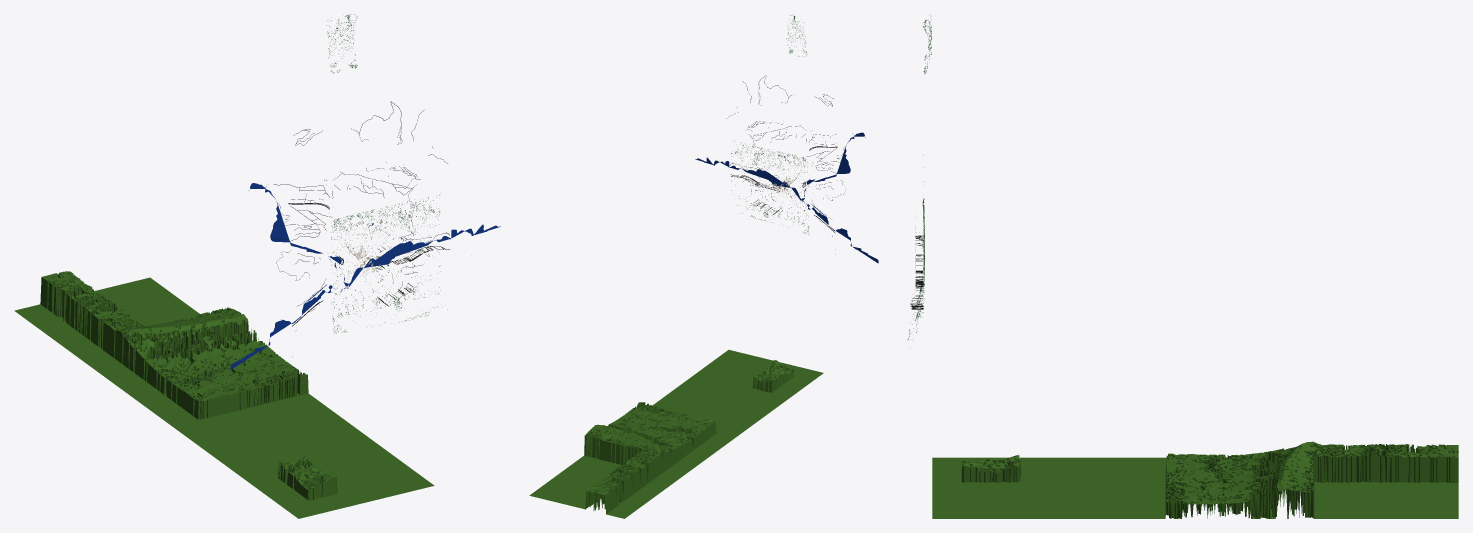
File: alsasua_complete.fbx
The picture shows the model from 3 angles, left to right: view 1: azimuth 30°, elevation 25°; view 2: azimuth 150°, elevation 25°; view 3: azimuth 270°, elevation 25°; orthographic projection. The views are drawn at different scales.
Visible parts, largest first — view 1: Terrain, Water, Roads, Trees; view 2: Terrain, Water, Roads, Trees; view 3: Terrain.
Part boxes in pixels (left/top/right/bottom): Terrain: left=14, top=271, right=434, bottom=518; Water: left=230, top=162, right=500, bottom=369; Roads: left=270, top=101, right=450, bottom=326; Trees: left=327, top=14, right=447, bottom=333; Terrain: left=529, top=349, right=823, bottom=518; Water: left=695, top=132, right=878, bottom=263; Roads: left=726, top=75, right=844, bottom=232; Trees: left=731, top=15, right=809, bottom=234; Terrain: left=932, top=441, right=1458, bottom=518.
Size of the model in its own units: 9721 by 17279 by 18813.
